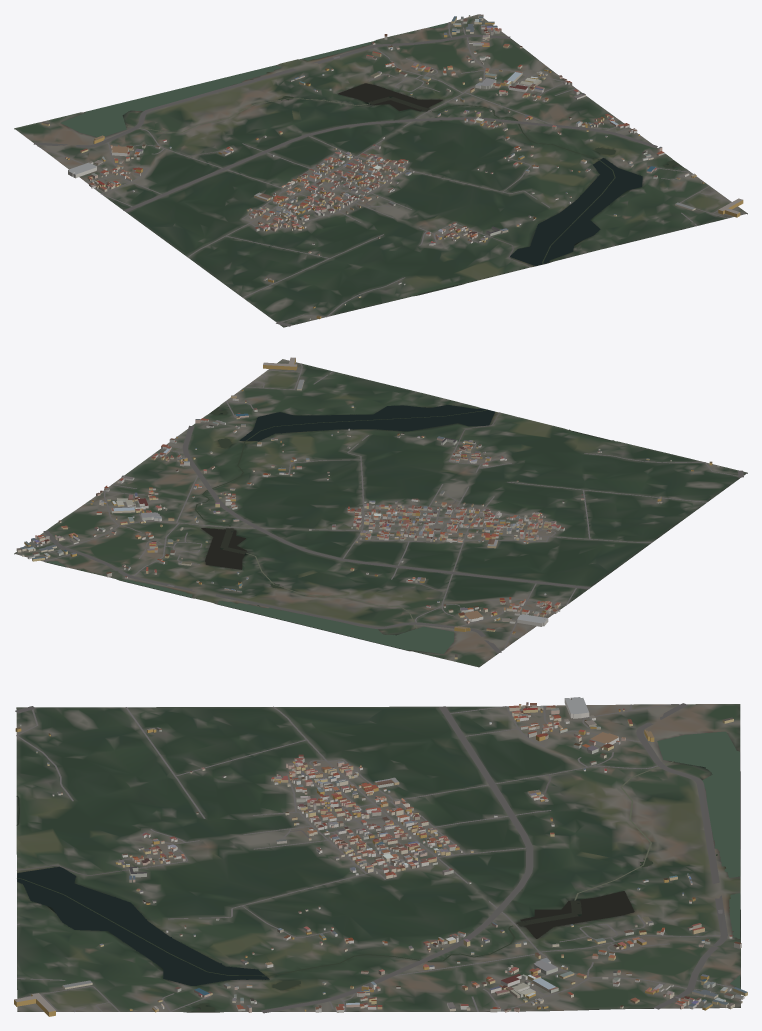
The picture shows the model from 3 angles, top to bottom: view 1: azimuth 30°, elevation 25°; view 2: azimuth 150°, elevation 25°; view 3: azimuth 270°, elevation 25°; orthographic projection. The views are drawn at different scales.
Visible parts, largest first — view 1: ground, buildings, water, roads; view 2: ground, buildings, water, roads; view 3: ground, buildings, water, roads.
Part boxes in pixels (box(x1,y1,x2,y2)): ground: box(14, 14, 747, 327); buildings: box(41, 14, 743, 319); water: box(60, 23, 682, 295); roads: box(33, 22, 729, 326); ground: box(14, 359, 747, 667); buildings: box(16, 357, 719, 659); water: box(46, 405, 614, 653); roads: box(37, 363, 743, 652); ground: box(16, 704, 740, 1012); buildings: box(14, 697, 747, 1016); water: box(16, 731, 740, 1011); roads: box(15, 703, 733, 1013).
Size of the model in its own units: 1437 by 22.2 by 1421.
